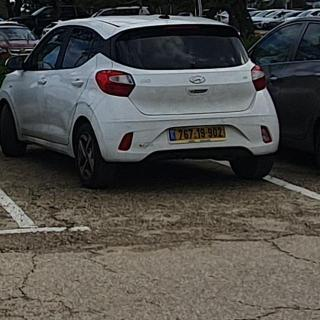LicensePlate: (175, 126, 225, 140)
